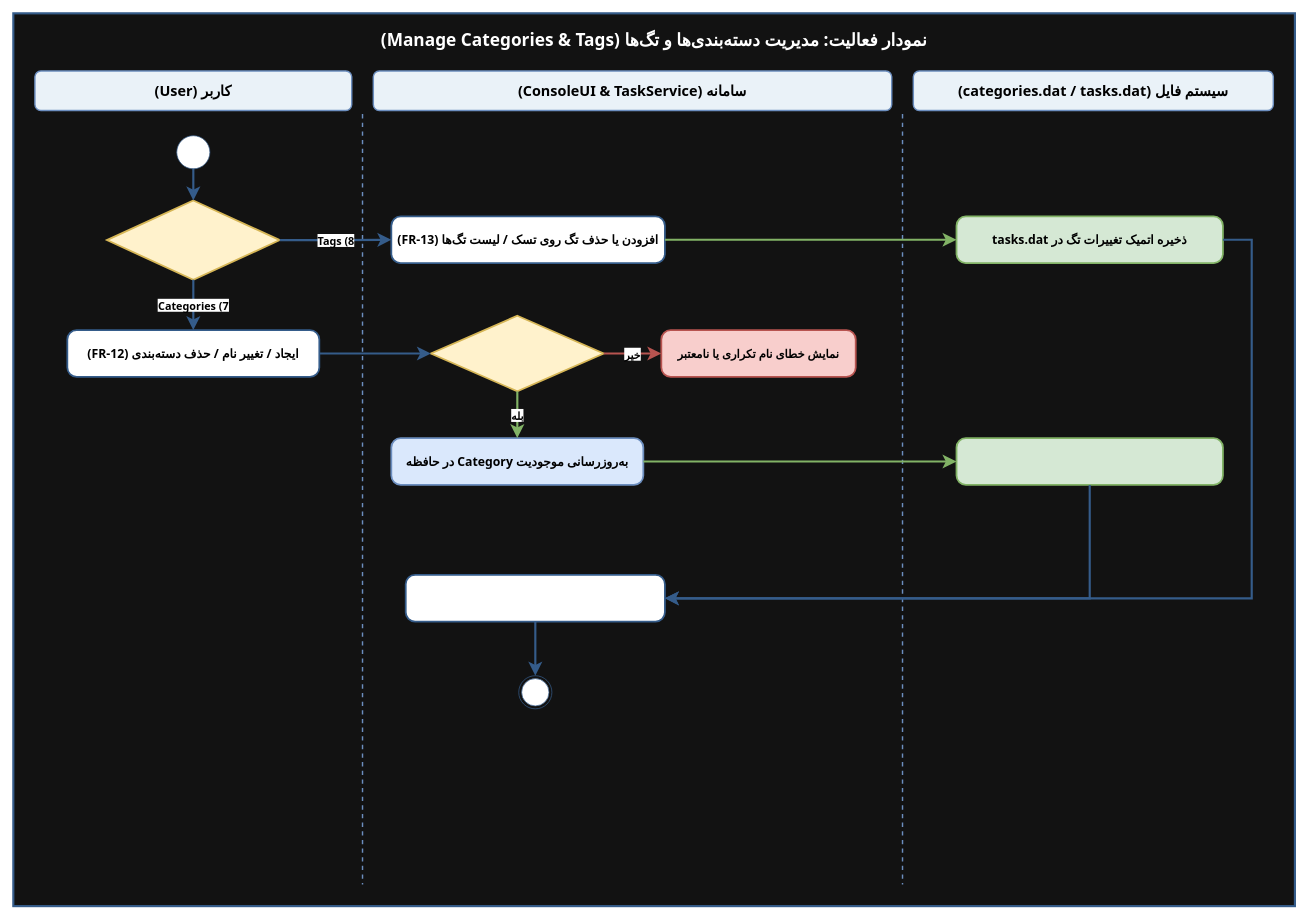
This 1308x919 diagram has some shape labels left out. The centre of each missing label's shape, as x and y in pixels:
آیا نام دسته‌بندی برای کاربر یکتا و معتبر است؟: point (517, 353)
انتخاب بخش توسط کاربر در منوی اصلی؟: point (193, 239)
ذخیره اتمیک در فایل categories.dat: point (1089, 461)
نمایش پیام تأیید یا چاپ لیست در کنسول: point (534, 598)
